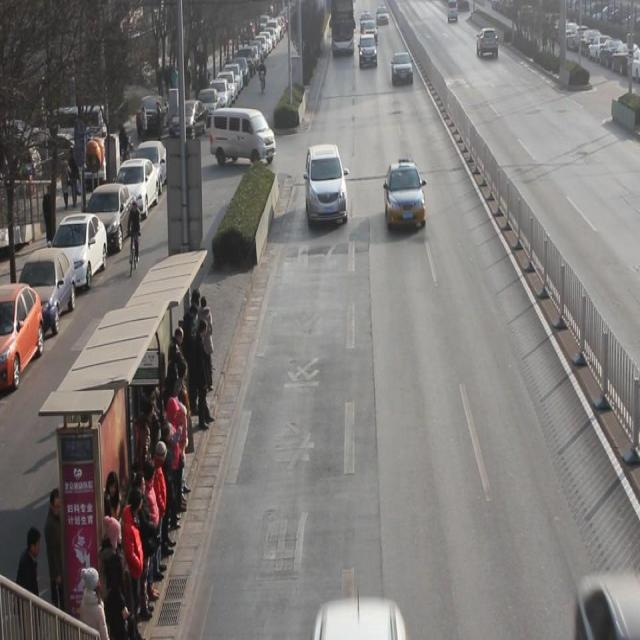car: (307, 142, 350, 225), (386, 161, 428, 228), (392, 50, 415, 84)
